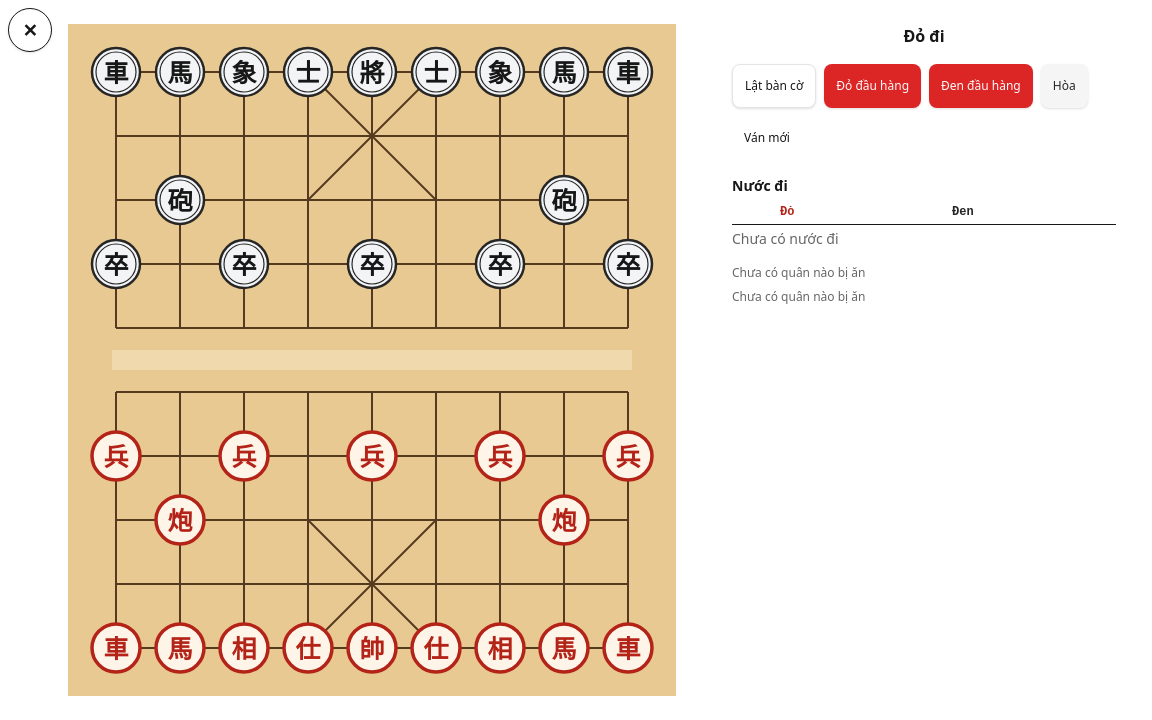
Test: LOCAL-01: /play/local game page › resigning ends the game and opens the result dialog
Click the button "Đỏ đầu hàng": (873, 86) [824, 64, 921, 108]
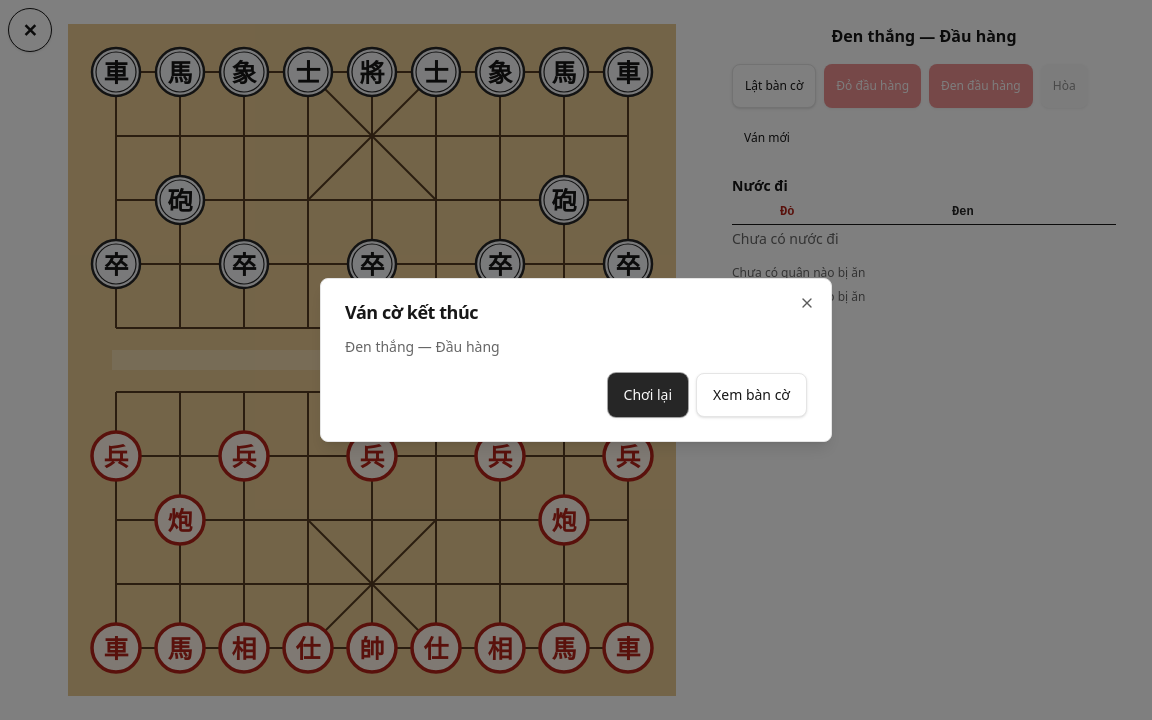
Expected: the dialog shows "Đen thắng — Đầu hàng", [345, 337, 500, 356]
